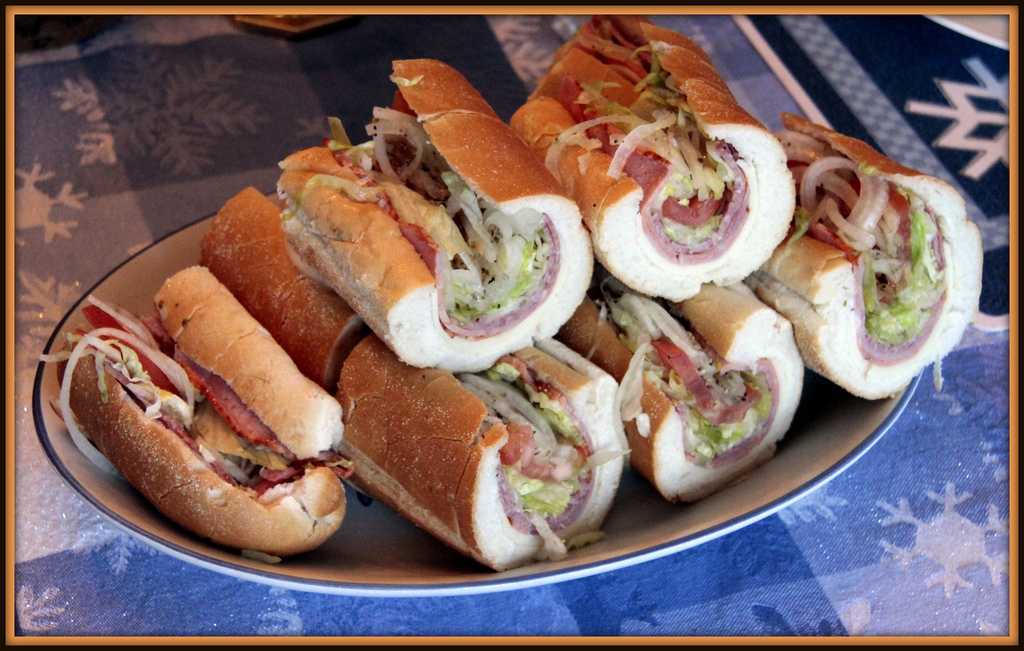slice of bread: (293, 53, 585, 373), (59, 264, 338, 550), (328, 334, 607, 607), (563, 19, 785, 319), (599, 272, 806, 524), (794, 126, 972, 409)
